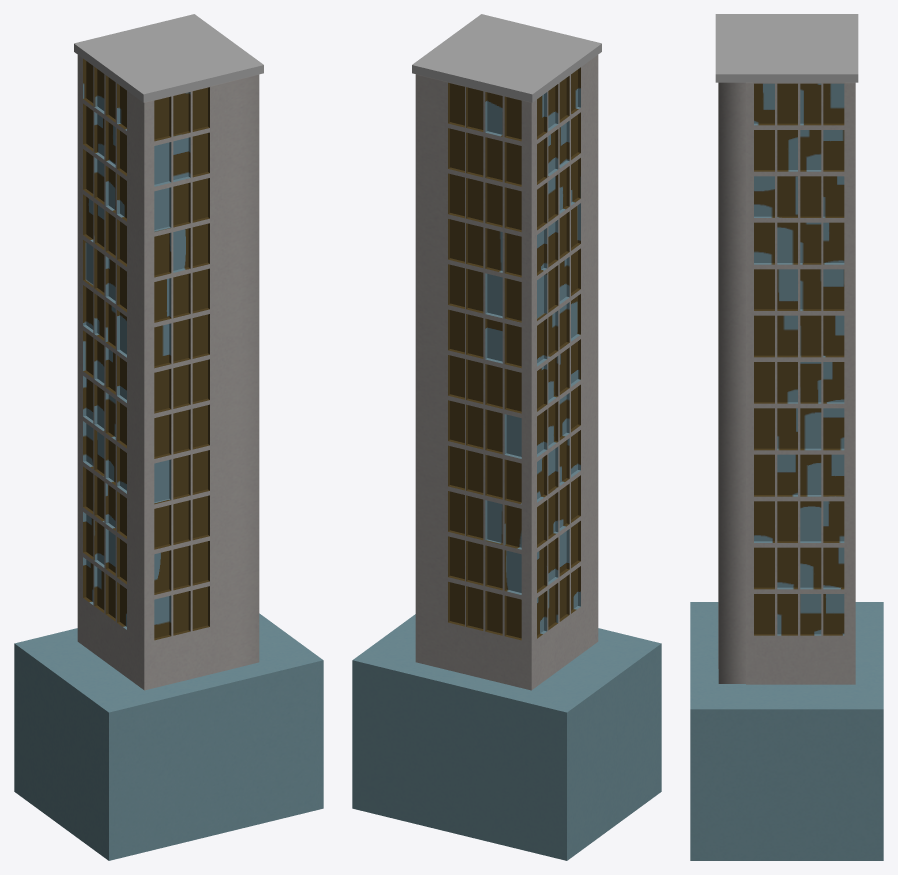
The model's file is ResidentialSkyScraper2.fbx.
The picture shows the model from 3 angles, left to right: view 1: azimuth 30°, elevation 25°; view 2: azimuth 150°, elevation 25°; view 3: azimuth 270°, elevation 25°; orthographic projection. The views are drawn at different scales.
Visible parts, largest first — view 1: pCube1, pCube2; view 2: pCube1, pCube2; view 3: pCube1, pCube2.
Boxes of the visible parts, x1,y1,x2,y2 form: pCube1: (14, 55, 323, 860); pCube2: (74, 14, 263, 102); pCube1: (352, 55, 661, 860); pCube2: (412, 14, 601, 102); pCube1: (690, 82, 883, 860); pCube2: (715, 14, 858, 82).
Bounding box in the file's own units: 2.35 × 7.81 × 1.79.
